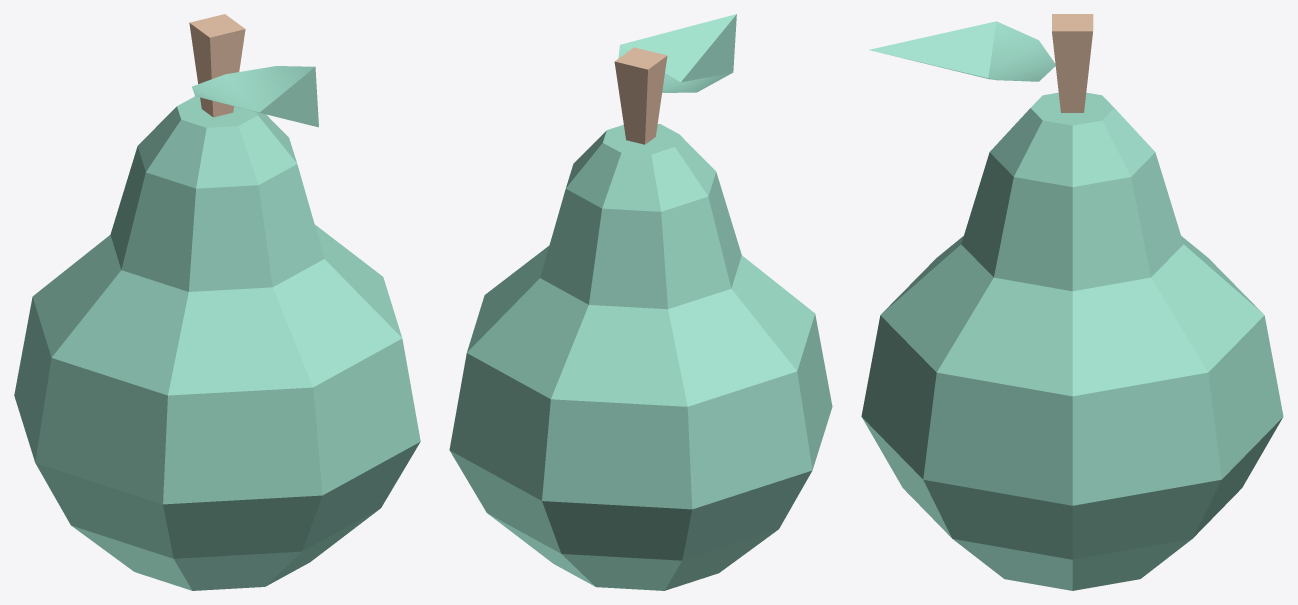
Rendered from pear.glb.
3 views of the same model, side by side, from view 1: azimuth 30°, elevation 25°; view 2: azimuth 150°, elevation 25°; view 3: azimuth 270°, elevation 25° (orthographic). The views are drawn at different scales.
Visible parts, largest first — view 1: pear; view 2: pear; view 3: pear.
Boxes of the visible parts, x1,y1,x2,y2 form: pear: (14,14,420,590); pear: (449,14,832,590); pear: (861,14,1283,590).
Size of the model in its own units: 0.1963 by 0.2708 by 0.1963.
